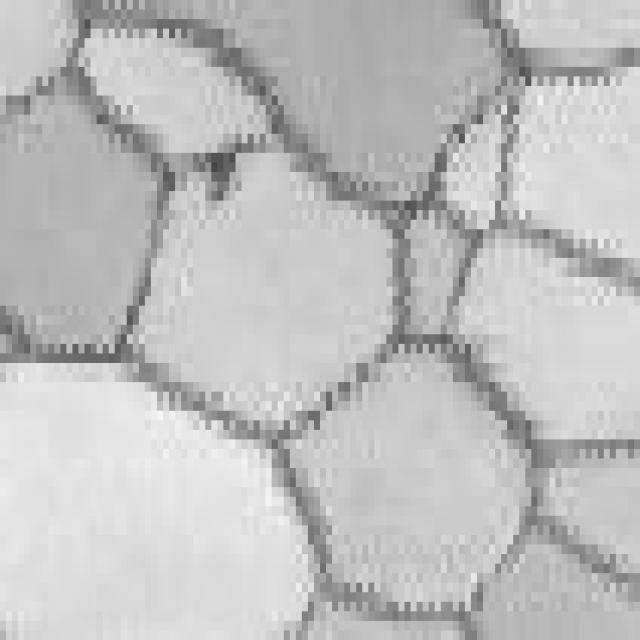good_void: (203, 146, 244, 215)
